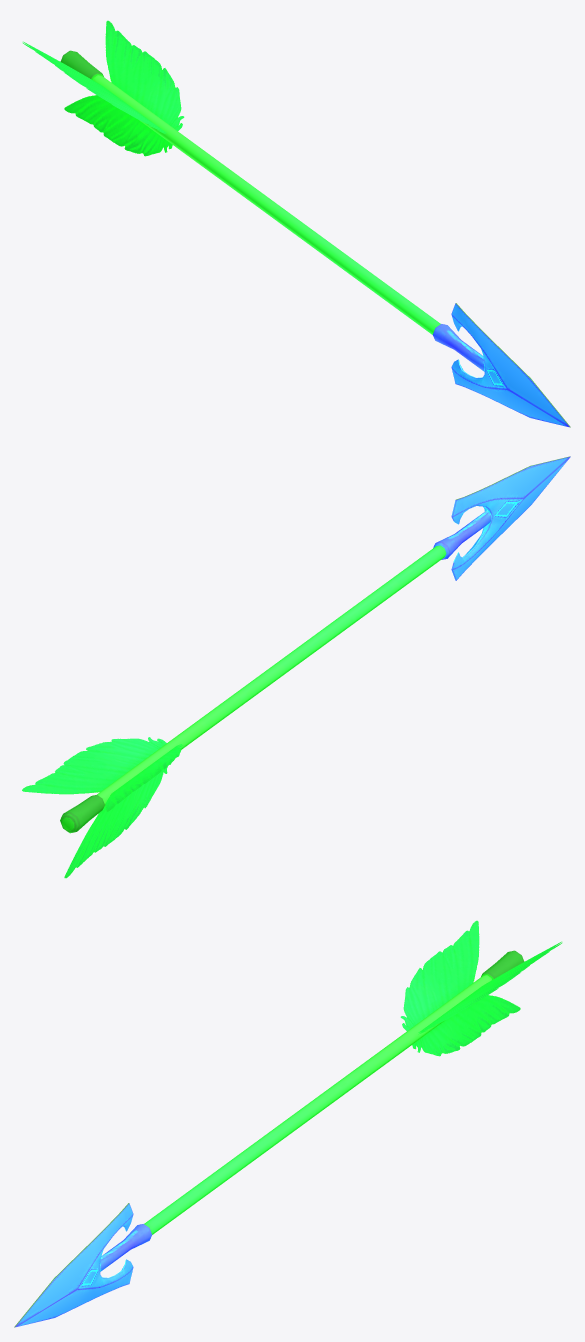
The model's file is normalArrow.fbx.
The picture shows the model from 3 angles, top to bottom: view 1: azimuth 30°, elevation 25°; view 2: azimuth 150°, elevation 25°; view 3: azimuth 330°, elevation 25°; orthographic projection.
Visible parts, largest first — view 1: NormalArrow; view 2: NormalArrow; view 3: NormalArrow.
Boxes of the visible parts, left/top/right/bottom form: NormalArrow: left=22, top=20, right=570, bottom=427; NormalArrow: left=22, top=456, right=570, bottom=878; NormalArrow: left=14, top=920, right=562, bottom=1327.
Bounding box in the file's own units: 32.26 × 32.06 × 310.
1 material, 1 textured.
